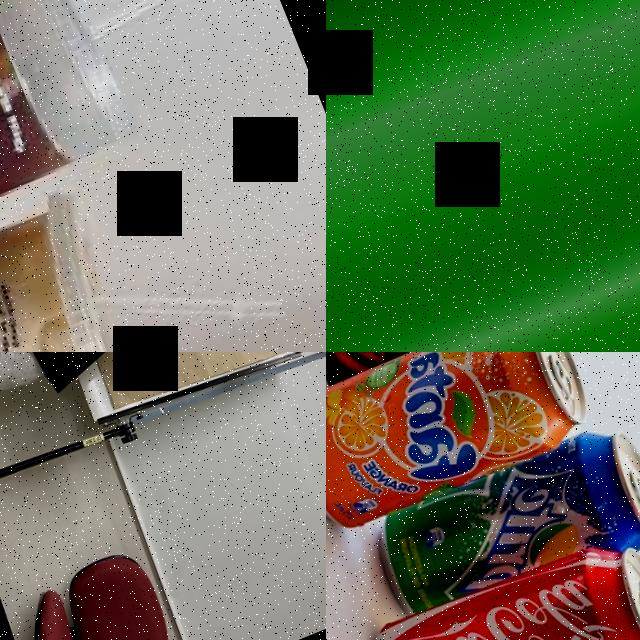can: (326, 0, 640, 352), (365, 411, 640, 639), (326, 352, 603, 544), (350, 522, 640, 640), (326, 352, 591, 429)
cup: (0, 0, 147, 310), (0, 181, 164, 352)
